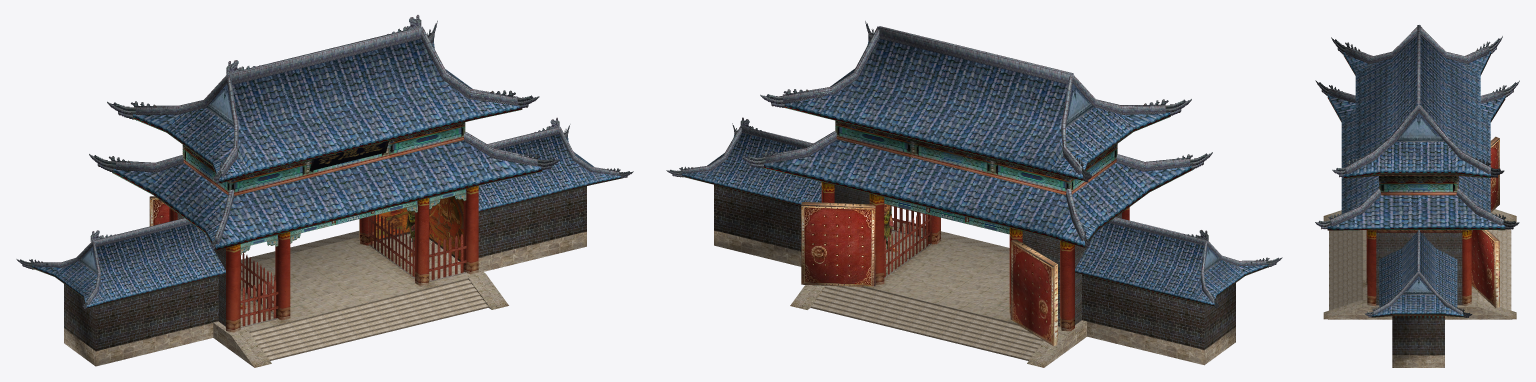
Rendered from cj5_tem_door.glb.
3 renders of one model, left to right at view 1: azimuth 30°, elevation 25°; view 2: azimuth 150°, elevation 25°; view 3: azimuth 270°, elevation 25°, orthographic. The views are drawn at different scales.
Parts seen in each view (by area): view 1: CJ5_tem_door_roof, CJ5_tem_door01, CJ5_tem_door02, CJ5_tem_door_fence, CJ5_tem_door_deco, CJ5_tem_door_statue, CJ5_tem_door03; view 2: CJ5_tem_door_roof, CJ5_tem_door01, CJ5_tem_door_statue, CJ5_tem_door02, CJ5_tem_door_deco, CJ5_tem_door03, CJ5_tem_door_fence; view 3: CJ5_tem_door_roof, CJ5_tem_door01, CJ5_tem_door_statue, CJ5_tem_door03, CJ5_tem_door02, CJ5_tem_door_deco.
Part boxes in pixels (left/top/right/bottom): CJ5_tem_door_roof: left=32, top=26, right=620, bottom=360; CJ5_tem_door01: left=64, top=122, right=586, bottom=366; CJ5_tem_door02: left=214, top=234, right=508, bottom=367; CJ5_tem_door_fence: left=240, top=214, right=466, bottom=327; CJ5_tem_door_deco: left=16, top=15, right=633, bottom=309; CJ5_tem_door_statue: left=149, top=141, right=429, bottom=309; CJ5_tem_door03: left=177, top=213, right=225, bottom=326; CJ5_tem_door_roof: left=682, top=26, right=1268, bottom=360; CJ5_tem_door01: left=714, top=120, right=1235, bottom=367; CJ5_tem_door_statue: left=801, top=202, right=1057, bottom=346; CJ5_tem_door02: left=790, top=222, right=1086, bottom=367; CJ5_tem_door_deco: left=666, top=21, right=1282, bottom=308; CJ5_tem_door03: left=834, top=185, right=1121, bottom=326; CJ5_tem_door_fence: left=884, top=206, right=931, bottom=278; CJ5_tem_door_roof: left=1327, top=25, right=1511, bottom=317; CJ5_tem_door01: left=1325, top=176, right=1515, bottom=367; CJ5_tem_door_statue: left=1471, top=136, right=1499, bottom=307; CJ5_tem_door03: left=1376, top=230, right=1462, bottom=305; CJ5_tem_door02: left=1323, top=209, right=1516, bottom=319; CJ5_tem_door_deco: left=1315, top=36, right=1519, bottom=317.
Bounding box in the file's own units: 30.93 × 13.67 × 12.08.
Materials: 7 (7 with a texture image).
